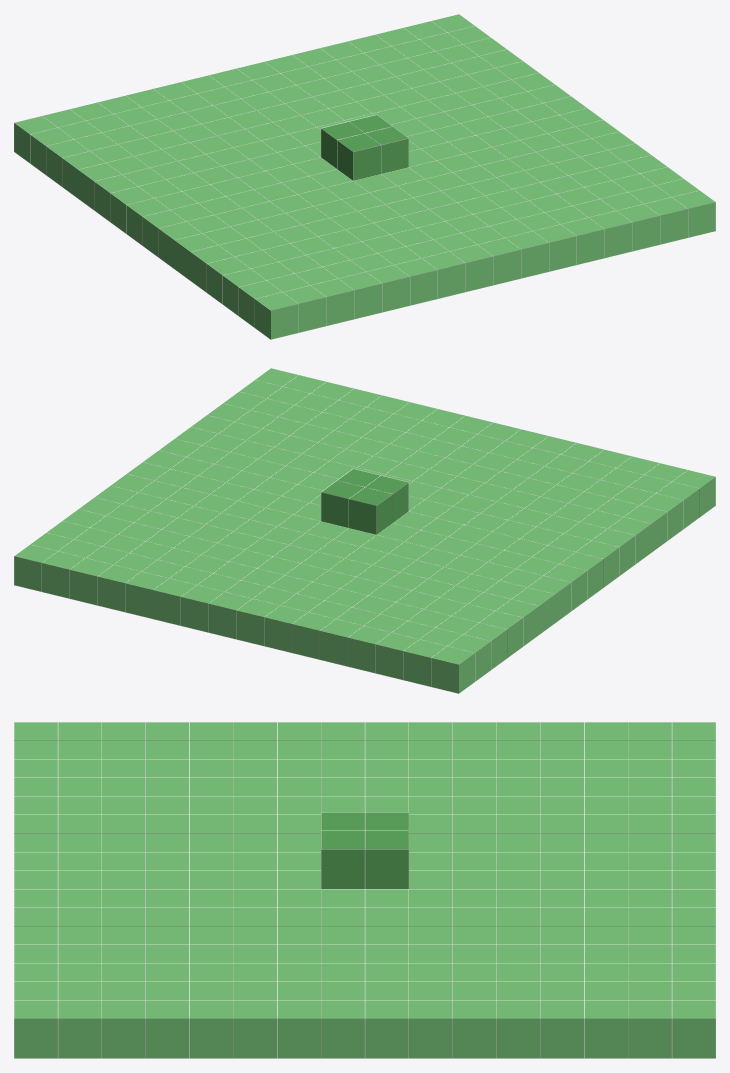
The model's file is GrassGrid.fbx.
The picture shows the model from 3 angles, top to bottom: view 1: azimuth 30°, elevation 25°; view 2: azimuth 150°, elevation 25°; view 3: azimuth 270°, elevation 25°; orthographic projection. The views are drawn at different scales.
Parts seen in each view (by area): view 1: NormalGrassGridCell.001, DarkGrassGridCell.001, NormalGrassGridCell.127, NormalGrassGridCell.141, NormalGrassGridCell.033, NormalGrassGridCell.173, NormalGrassGridCell.189, NormalGrassGridCell.205, NormalGrassGridCell.221, NormalGrassGridCell.097, NormalGrassGridCell.113, NormalGrassGridCell.081 (+22 smaller); view 2: NormalGrassGridCell.016, DarkGrassGridCell.002, NormalGrassGridCell.140, NormalGrassGridCell.156, NormalGrassGridCell.048, NormalGrassGridCell.188, NormalGrassGridCell.204, NormalGrassGridCell.220, NormalGrassGridCell.236, NormalGrassGridCell.112, NormalGrassGridCell.126, NormalGrassGridCell.096 (+22 smaller); view 3: NormalGrassGridCell.239, NormalGrassGridCell.241, NormalGrassGridCell.243, NormalGrassGridCell.246, NormalGrassGridCell.248, NormalGrassGridCell.250, DarkGrassGridCell.003, DarkGrassGridCell.004, NormalGrassGridCell.237, NormalGrassGridCell.238, NormalGrassGridCell.240, NormalGrassGridCell.242 (+240 smaller).
Part boxes in pixels (left/top/right/bottom): NormalGrassGridCell.001: left=254, top=292, right=298, bottom=339; DarkGrassGridCell.001: left=337, top=133, right=381, bottom=180; NormalGrassGridCell.127: left=477, top=238, right=521, bottom=285; NormalGrassGridCell.141: left=505, top=231, right=549, bottom=278; NormalGrassGridCell.033: left=311, top=278, right=354, bottom=326; NormalGrassGridCell.173: left=561, top=217, right=604, bottom=265; NormalGrassGridCell.189: left=589, top=211, right=632, bottom=258; NormalGrassGridCell.205: left=616, top=204, right=660, bottom=251; NormalGrassGridCell.221: left=644, top=197, right=688, bottom=244; NormalGrassGridCell.097: left=422, top=251, right=465, bottom=298; NormalGrassGridCell.113: left=450, top=245, right=493, bottom=292; NormalGrassGridCell.081: left=394, top=258, right=437, bottom=305; NormalGrassGridCell.016: left=431, top=646, right=475, bottom=693; DarkGrassGridCell.002: left=348, top=487, right=392, bottom=534; NormalGrassGridCell.140: left=208, top=592, right=252, bottom=639; NormalGrassGridCell.156: left=180, top=585, right=224, bottom=632; NormalGrassGridCell.048: left=375, top=632, right=418, bottom=680; NormalGrassGridCell.188: left=125, top=571, right=168, bottom=619; NormalGrassGridCell.204: left=97, top=565, right=140, bottom=612; NormalGrassGridCell.220: left=69, top=558, right=113, bottom=605; NormalGrassGridCell.236: left=41, top=551, right=85, bottom=598; NormalGrassGridCell.112: left=264, top=605, right=307, bottom=652; NormalGrassGridCell.126: left=236, top=599, right=279, bottom=646; NormalGrassGridCell.096: left=292, top=612, right=335, bottom=659; NormalGrassGridCell.239: left=101, top=1000, right=145, bottom=1058; NormalGrassGridCell.241: left=189, top=1000, right=233, bottom=1058; NormalGrassGridCell.243: left=277, top=1000, right=321, bottom=1058; NormalGrassGridCell.246: left=408, top=1000, right=452, bottom=1058; NormalGrassGridCell.248: left=496, top=1000, right=540, bottom=1058; NormalGrassGridCell.250: left=584, top=1000, right=628, bottom=1058; DarkGrassGridCell.003: left=321, top=830, right=364, bottom=888; DarkGrassGridCell.004: left=365, top=830, right=408, bottom=888; NormalGrassGridCell.237: left=14, top=1000, right=57, bottom=1058; NormalGrassGridCell.238: left=58, top=1000, right=101, bottom=1058; NormalGrassGridCell.240: left=146, top=1000, right=189, bottom=1058; NormalGrassGridCell.242: left=233, top=1000, right=276, bottom=1058.
Size of the model in its own units: 1601 by 201 by 1601.
